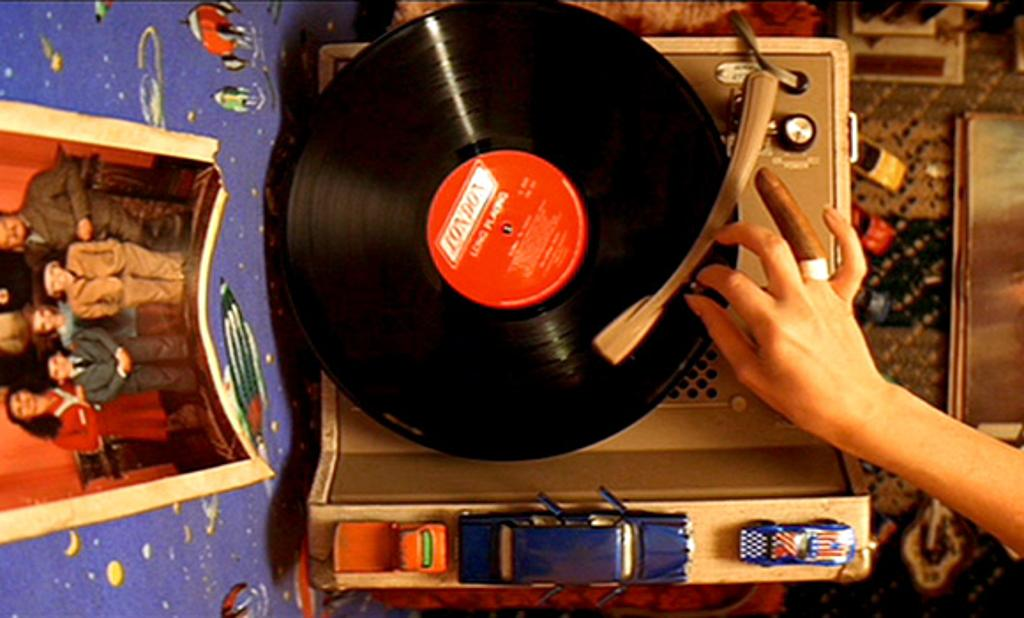face: (9, 390, 37, 418), (0, 217, 22, 249), (46, 267, 72, 291), (33, 309, 56, 331), (50, 356, 72, 378)
